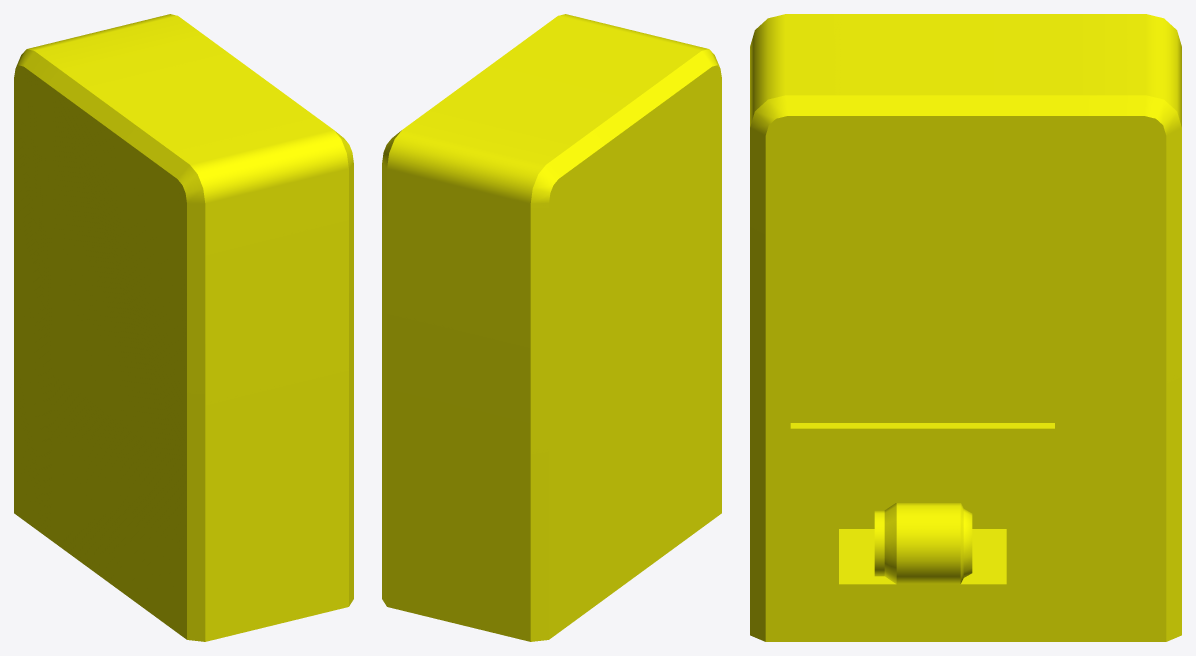
3 renders of one model, left to right at view 1: azimuth 30°, elevation 25°; view 2: azimuth 150°, elevation 25°; view 3: azimuth 270°, elevation 25°, orthographic. The views are drawn at different scales.
Visible parts, largest first — view 1: VendingMachine; view 2: VendingMachine; view 3: VendingMachine.
Boxes of the visible parts, x1,y1,x2,y2 form: VendingMachine: (14,14,353,641); VendingMachine: (382,14,721,641); VendingMachine: (750,14,1181,641).
Size of the model in its own units: 0.00881 by 0.021 by 0.0152.
1 material, 1 textured.
